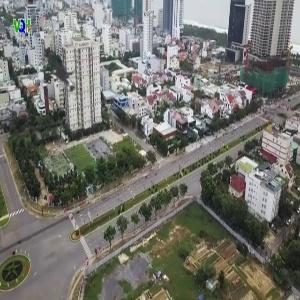drone: (17, 34, 104, 121)
